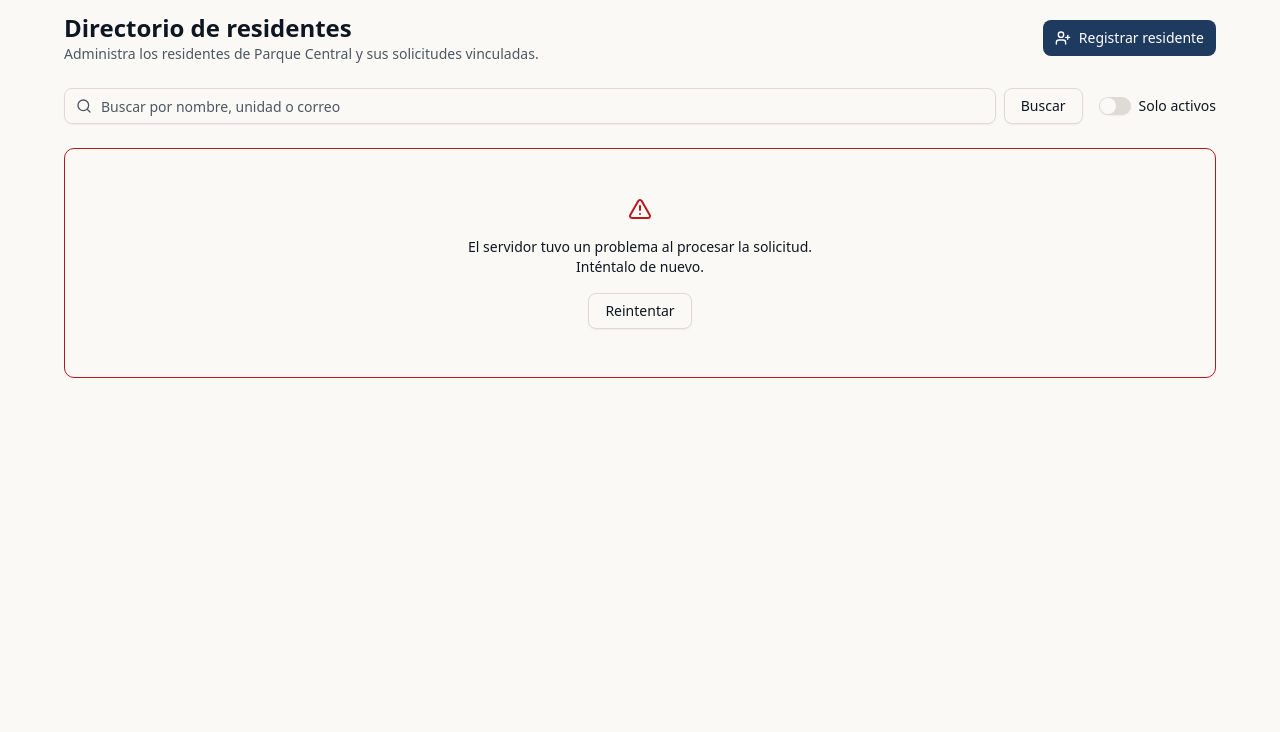
Test: ResidentesPage · estados y listado › muestra EstadoError cuando falla y reintenta al pulsar Reintentar
Click the button "Reintentar". click: (640, 311)
box: top-left (588, 293), bottom-right (692, 329)
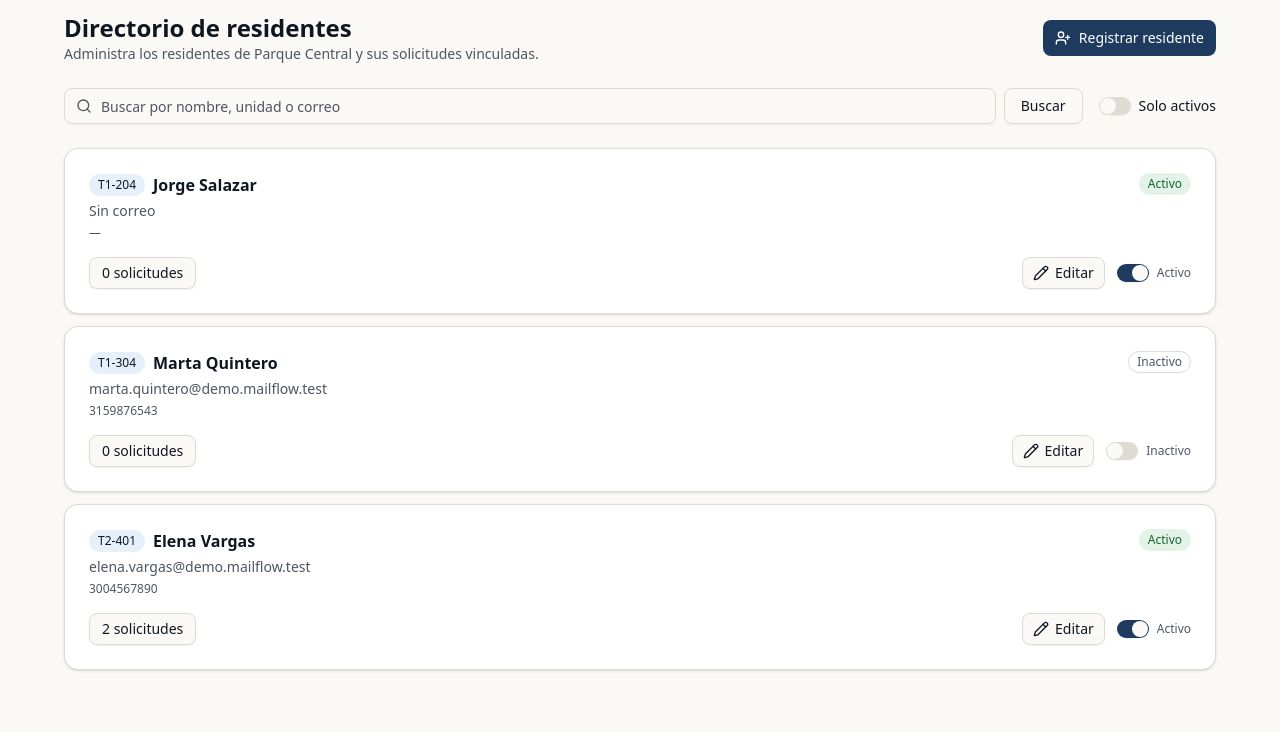
Expected: the text "Elena Vargas" is shown, top-left (153, 529), bottom-right (255, 553)
